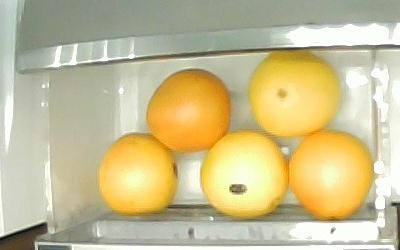grapefruit: (200, 129, 288, 218), (287, 130, 373, 220), (248, 51, 338, 136), (145, 67, 230, 152), (96, 132, 178, 214)
